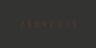five: (25, 20, 32, 28)
four: (41, 20, 48, 27)
nine: (73, 19, 80, 27)
one: (65, 19, 72, 27)
three: (57, 19, 64, 27)
two: (17, 20, 24, 28), (49, 19, 56, 27)
zero: (33, 20, 40, 28)
